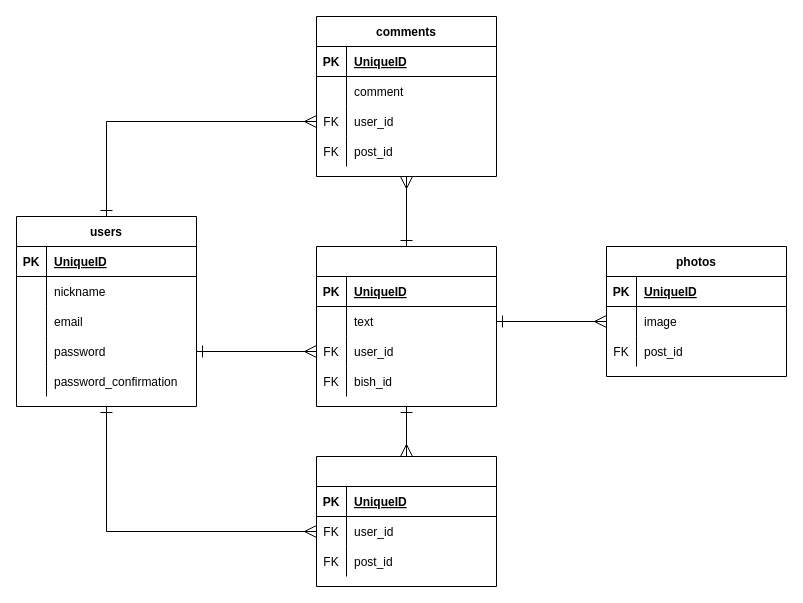
This 803x603 diagram has some shape labels left out. Here are the shapes that lost their labels. From the top down, the box of each, then its label:
(316, 246, 496, 406): posts
(316, 456, 496, 586): likes
